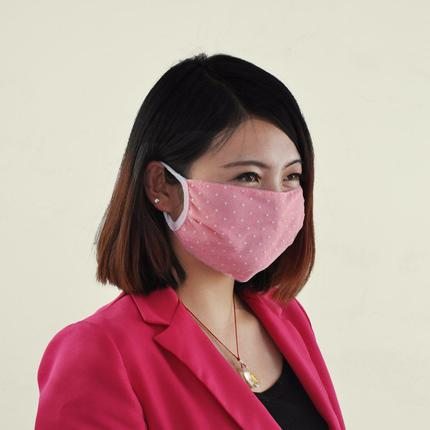OK: (186, 148, 304, 277)
